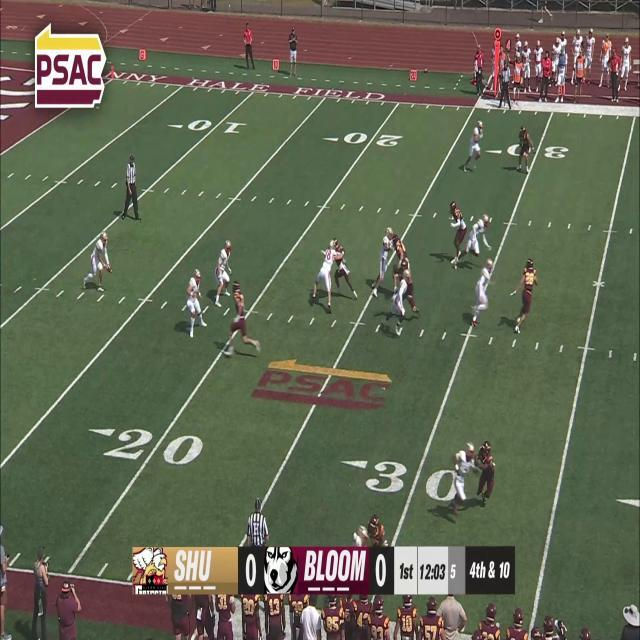football: (107, 264, 113, 274)
